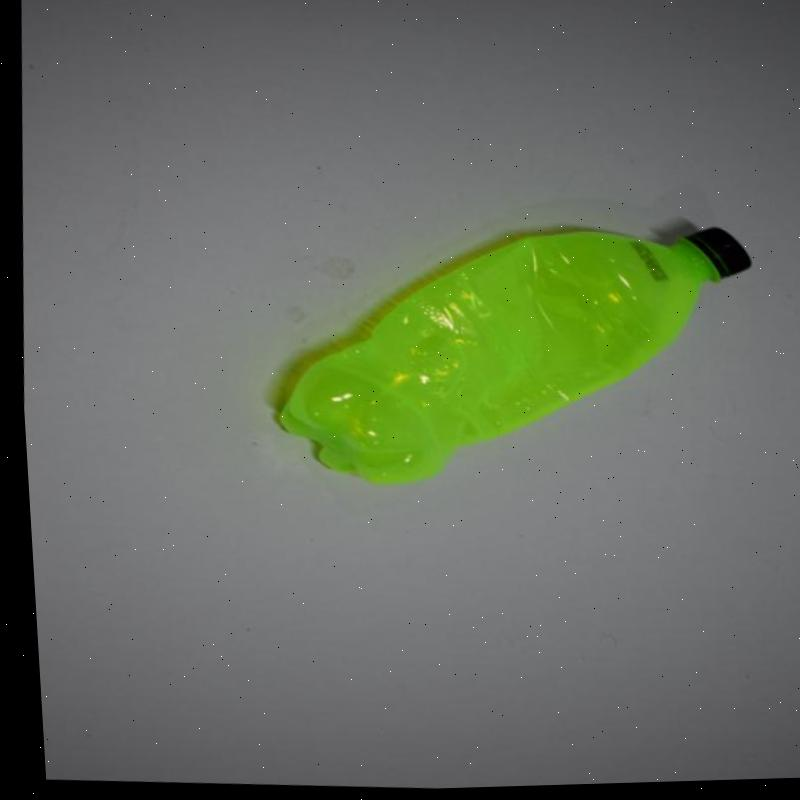botella: (255, 206, 762, 511)
